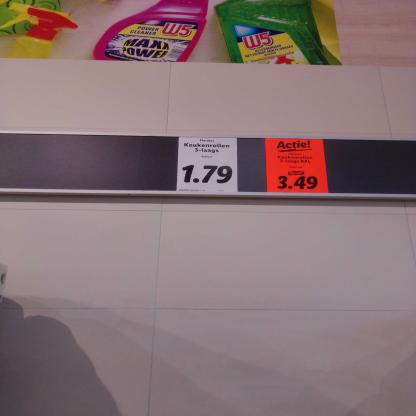prtg: (266, 139, 329, 194), (177, 138, 239, 193)
